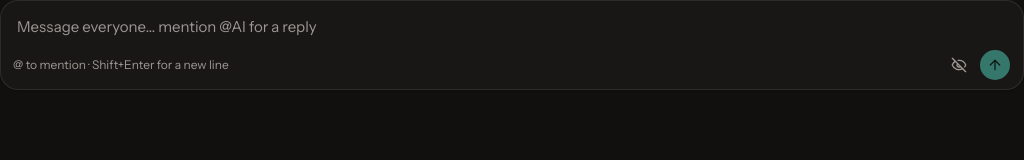
Test: Composer mentions › mentioning a person doesn't ask the AI
The width and height of the screenshot is (1024, 160).
Later steps or results of the test are not shown.
In the text box labelled "Message": (512, 27) left=9, top=9, right=1015, bottom=45, type "@bo"
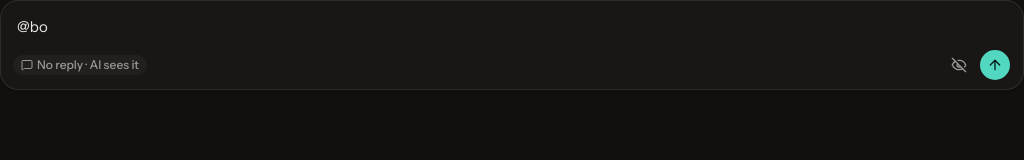
Press Enter in the text box named "Message", box left=9, top=9, right=1015, bottom=45
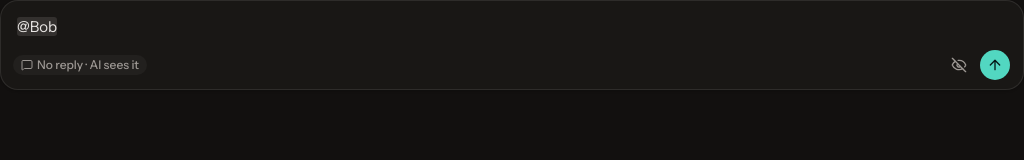
Replace the text in the text box named "Message" with "@Bob can you pay?": (512, 27) left=9, top=9, right=1015, bottom=45
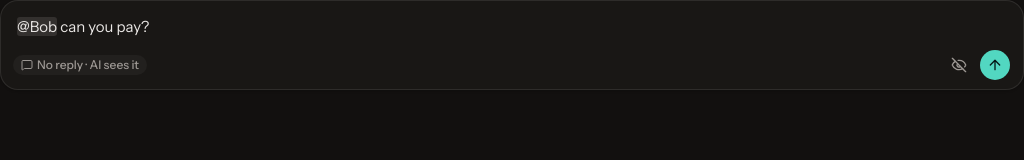
Expected: the element with test id "intent-preview" shows "No reply", left=37, top=57, right=139, bottom=72
